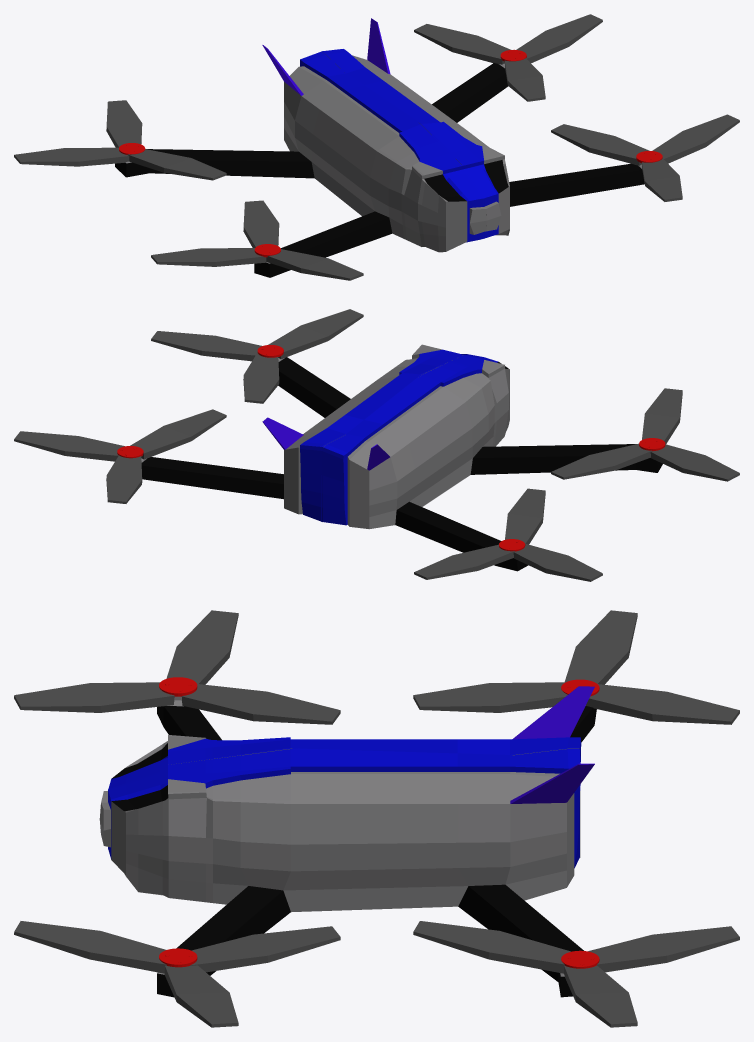
Rendered from Drone.FBX.fbx.
3 views of the same model, one above another, from view 1: azimuth 30°, elevation 25°; view 2: azimuth 150°, elevation 25°; view 3: azimuth 270°, elevation 25° (orthographic). The views are drawn at different scales.
Visible parts, largest first — view 1: Body, Rotor.005, Rotor.001, Rotor.003, Rotor.004; view 2: Body, Rotor.001, Rotor.005, Rotor.003, Rotor.004; view 3: Body, Rotor.004, Rotor.003, Rotor.005, Rotor.001.
Part boxes in pixels (x1,y1,x2,y2): Body: [115, 18, 644, 277]; Rotor.005: [551, 114, 739, 201]; Rotor.001: [414, 14, 602, 101]; Rotor.003: [14, 100, 226, 180]; Rotor.004: [151, 200, 363, 280]; Body: [141, 344, 662, 571]; Rotor.001: [14, 409, 226, 503]; Rotor.005: [151, 309, 363, 403]; Rotor.003: [414, 488, 602, 581]; Rotor.004: [551, 388, 739, 481]; Body: [99, 686, 596, 997]; Rotor.004: [14, 610, 340, 724]; Rotor.003: [413, 610, 739, 724]; Rotor.005: [14, 921, 340, 1027]; Rotor.001: [413, 921, 739, 1027].
Bounding box in the file's own units: 894 × 154 × 662.
